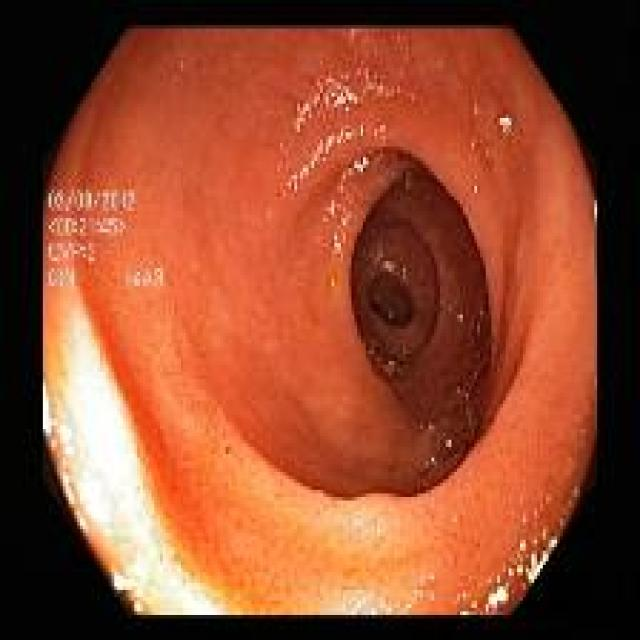ulcerative-colitis: (44, 28, 596, 615)
